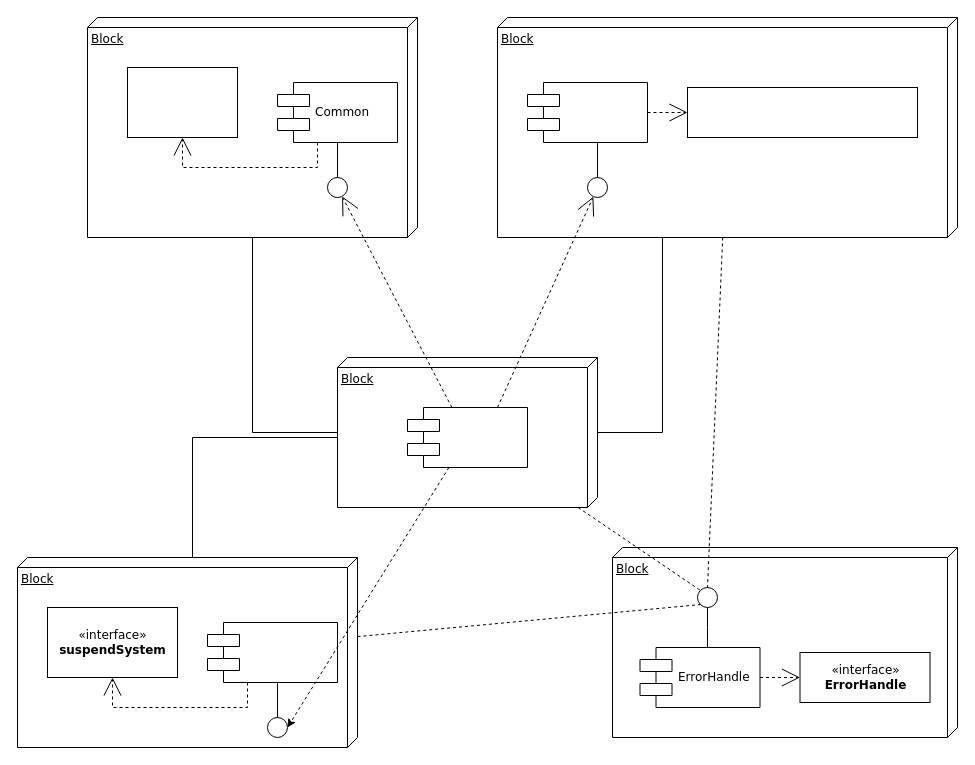
Image size: 975x765. Some labels were removed from this diagram. The shapes that lost their labels are listed below. From the top down, each one's centre as x and y in pixels, then its label:
(x=182, y=102): «interface» fillMem verifyMem print
(x=587, y=112): Memory
(x=802, y=112): «interface» prepareTestMemArea virtToPhy
(x=467, y=437): Main
(x=272, y=652): PowerControl
